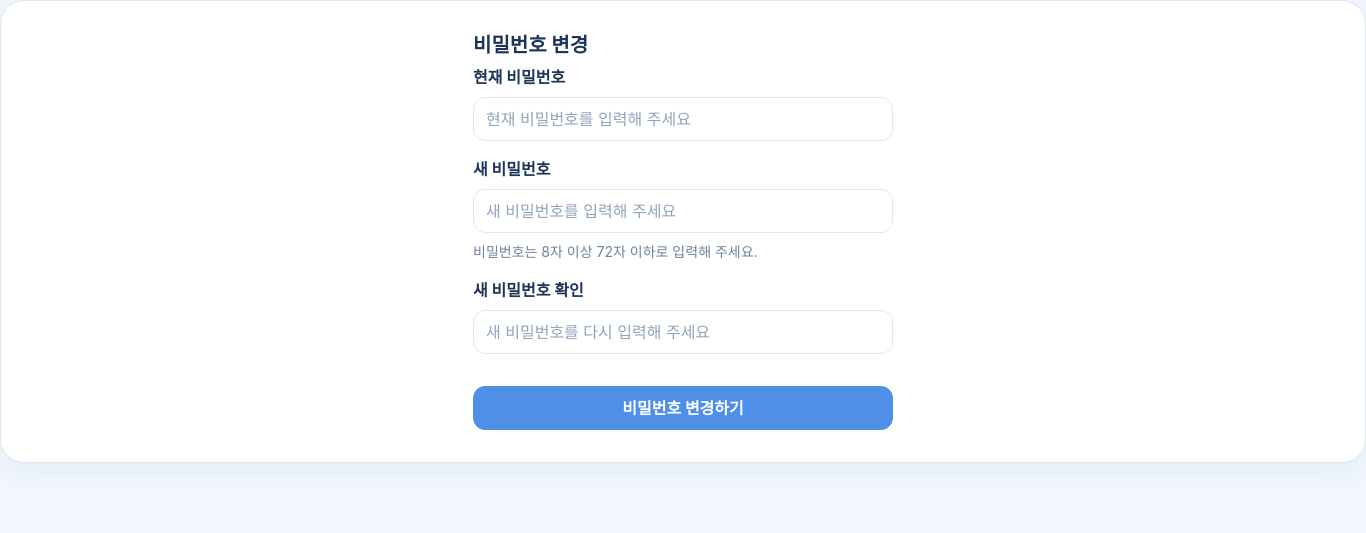
it: PasswordSettingsView › shows a validation error without redirecting when the current password is wrong
The width and height of the screenshot is (1366, 533).
Type "wrong-password" into the password field with id "current-password" at (683, 119), box x1=473 y1=97 x2=893 y2=141
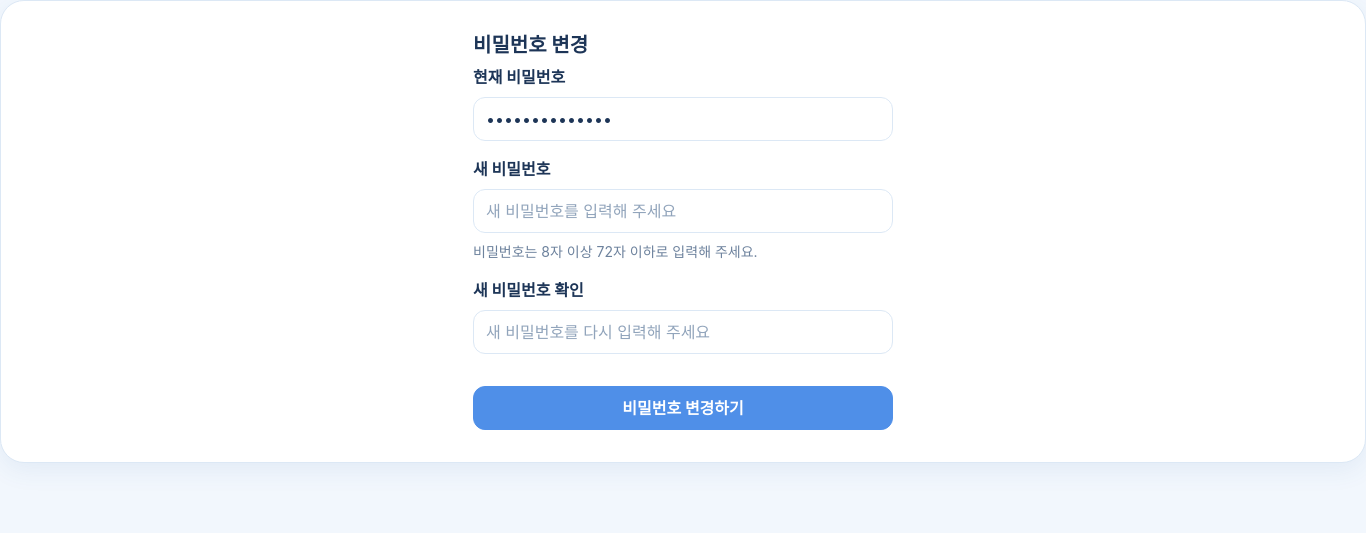
Type "new-password-123" into the password field with id "new-password" at (683, 211), box x1=473 y1=189 x2=893 y2=233
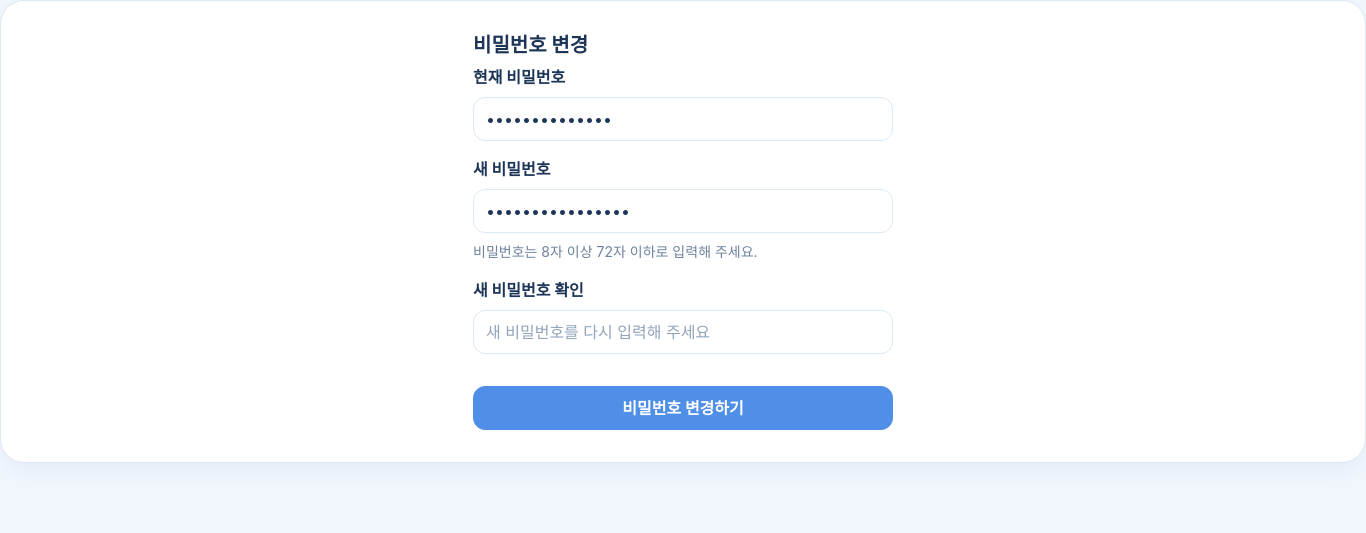
Type "new-password-123" into the password field with id "new-password-confirm" at (683, 332), box x1=473 y1=310 x2=893 y2=354
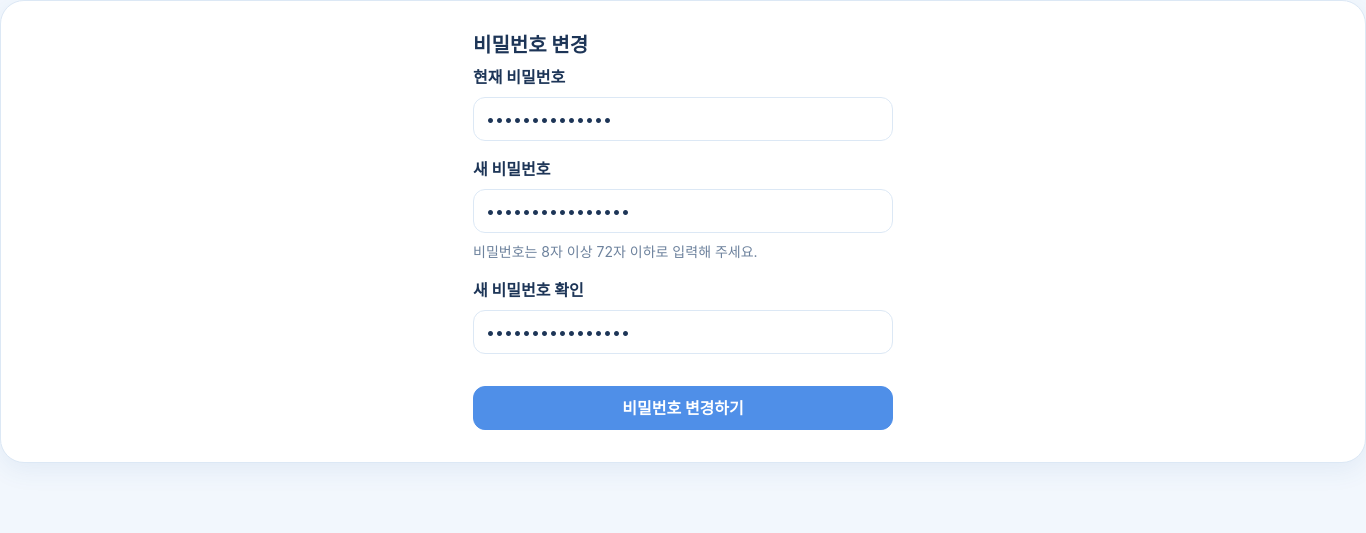
Submit the form, box x1=473 y1=65 x2=893 y2=430
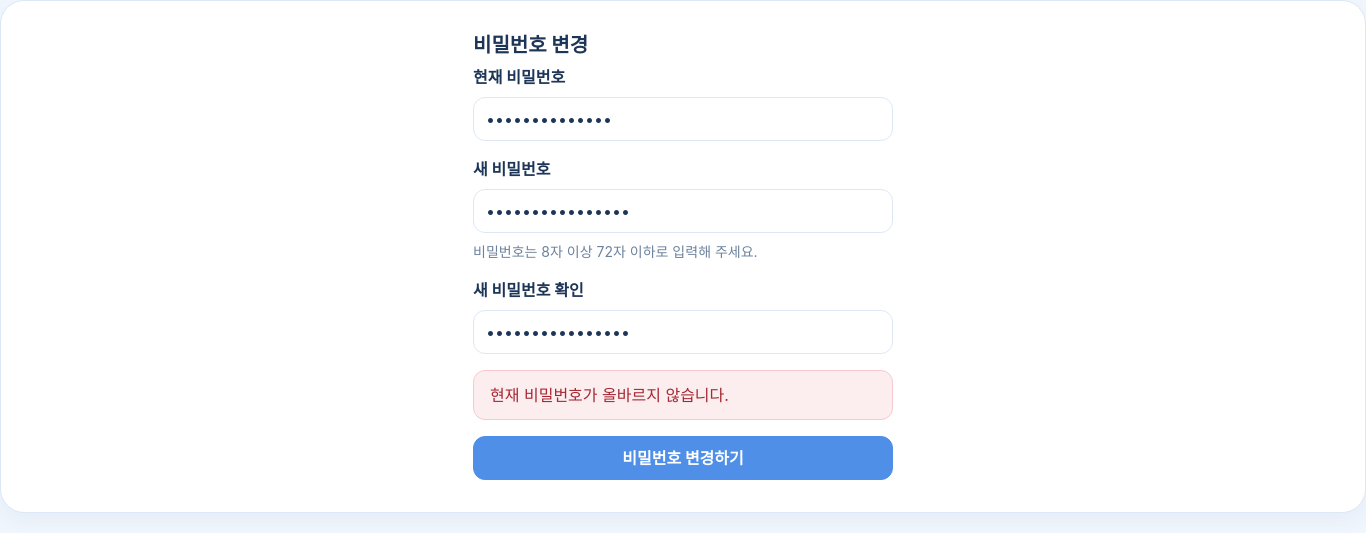
Expected: the number of elements with class "app-form-field" is 3, x1=473 y1=65 x2=893 y2=141; x1=473 y1=157 x2=893 y2=262; x1=473 y1=278 x2=893 y2=354
Result: the message "현재 비밀번호가 올바르지 않습니다." is shown at x1=473 y1=370 x2=893 y2=420
